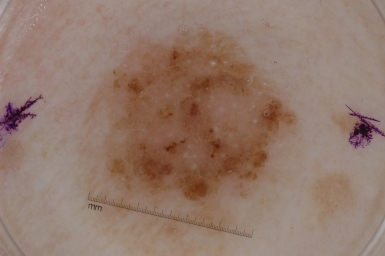seborrheic keratosis: (83, 16, 303, 192)
